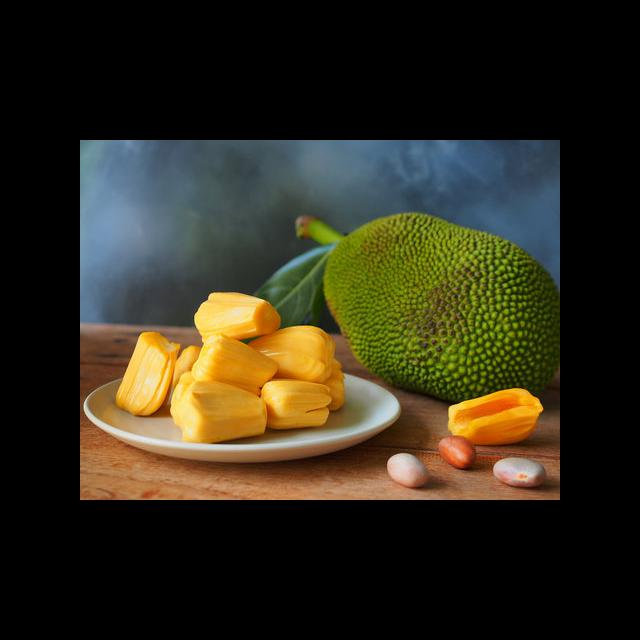mit: (321, 206, 561, 404)
